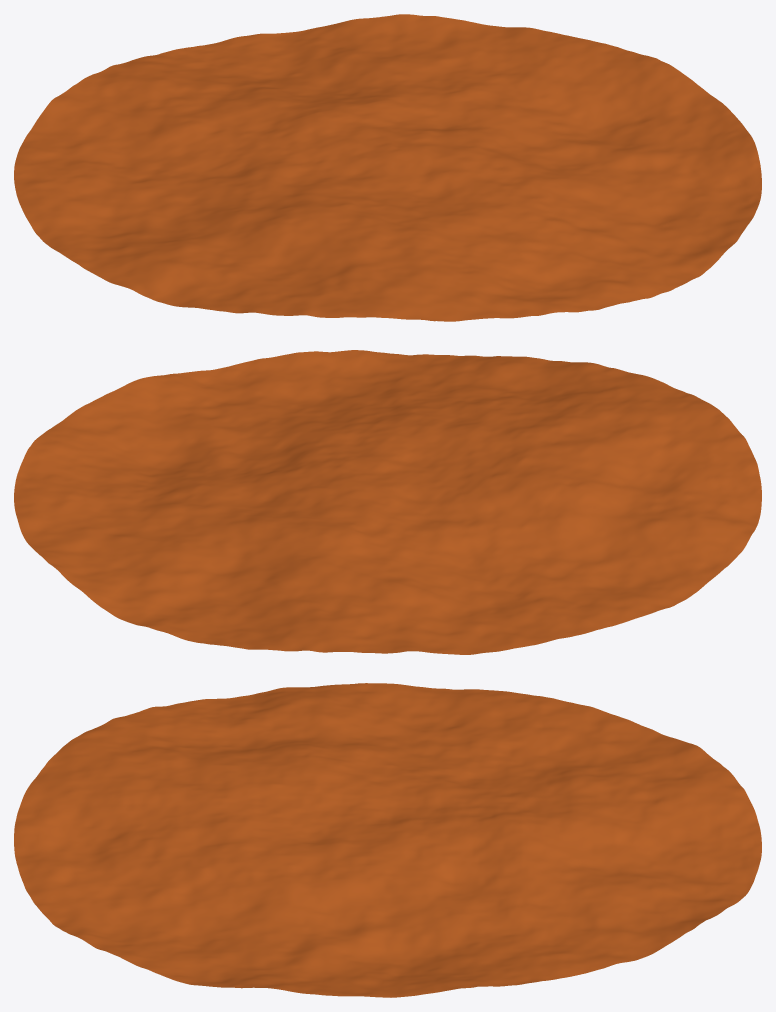
Rendered from lavaGeo.fbx.
3 renders of one model, top to bottom at view 1: azimuth 30°, elevation 25°; view 2: azimuth 150°, elevation 25°; view 3: azimuth 270°, elevation 25°, orthographic.
Visible parts, largest first — view 1: BossOutput; view 2: BossOutput; view 3: BossOutput.
Boxes of the visible parts, <box> form: BossOutput: <box>14,14,761,321</box>; BossOutput: <box>14,350,761,654</box>; BossOutput: <box>14,683,761,997</box>.
Bounding box in the file's own units: 35.12 × 1.78 × 35.12.
